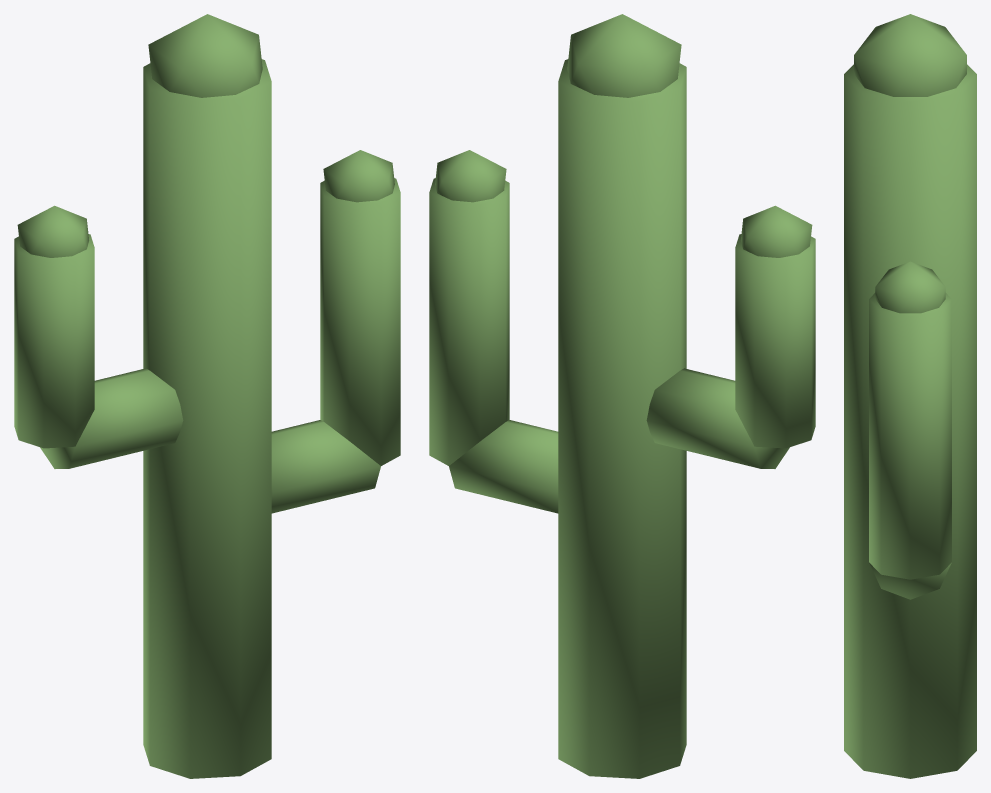
The model's file is cactus.glb.
3 renders of one model, left to right at view 1: azimuth 30°, elevation 25°; view 2: azimuth 150°, elevation 25°; view 3: azimuth 270°, elevation 25°, orthographic.
Parts seen in each view (by area): view 1: cactus; view 2: cactus; view 3: cactus.
Part boxes in pixels (box(x1,y1,x2,y2)): cactus: box(14, 14, 400, 778); cactus: box(429, 14, 815, 778); cactus: box(844, 14, 976, 778).
Size of the model in its own units: 2.1 by 3.92 by 0.64.
